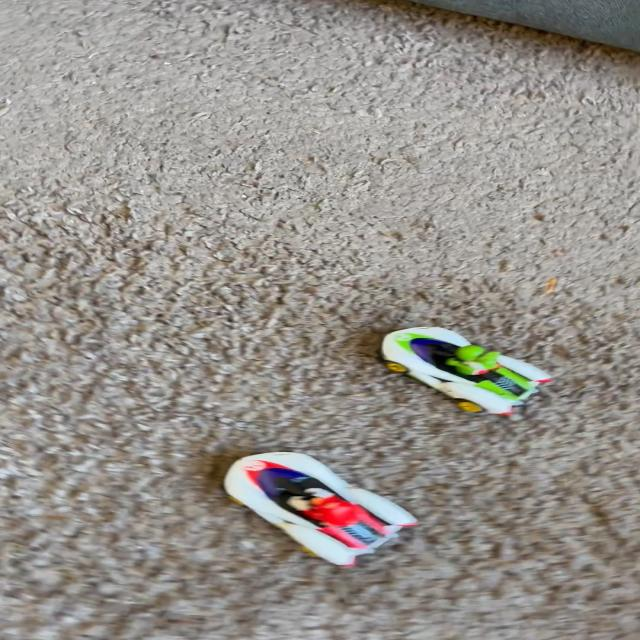mario: (205, 437, 450, 581)
yoshi: (360, 303, 575, 436)
